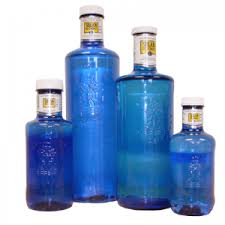solan de cabras: (117, 27, 173, 211), (67, 5, 117, 211), (22, 72, 75, 218), (176, 95, 217, 221)
